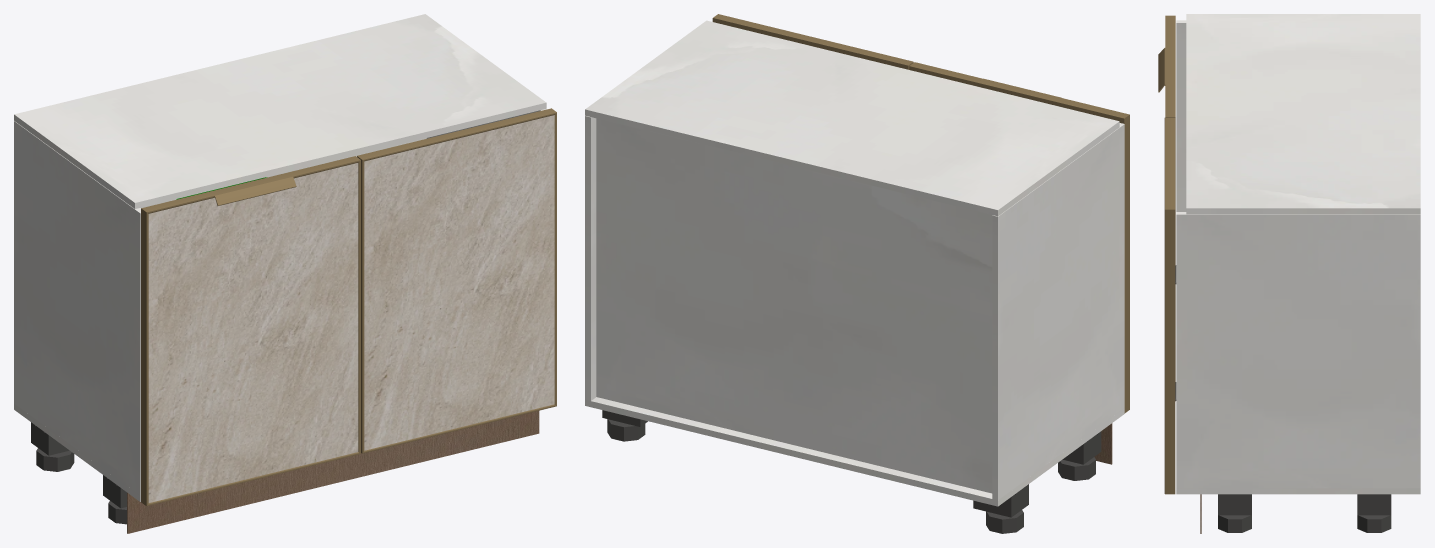
The model's file is BB-AC-TTS-ST-LMC-RHS-XXX-1050-720-560-15.glb.
3 renders of one model, left to right at view 1: azimuth 30°, elevation 25°; view 2: azimuth 150°, elevation 25°; view 3: azimuth 270°, elevation 25°, orthographic. The views are drawn at different scales.
Visible parts, largest first — view 1: Object_node_18, Object_node_20, TP_node_1, TP_node, Object_node_22, Extrusion_node_4, Extrusion_node_5, ExtrSplGeo, Extrusion_node_8, Extrusion_node, Extrusion_node_2, Extrusion_node_6 (+3 smaller); view 2: TP_node_2, TP_node_1, TP_node, TP, TP_node_0, Extrusion_node_5, Extrusion_node_4, Extrusion_node, ExtrSplGeo, Plate, Foot, Foot_node_0 (+1 smaller); view 3: TP_node_0, TP_node_1, Extrusion_node_6, TP_node, TP, Extrusion_node_5, Plate_node, Plate_node_1, Extrusion_node, ExtrSplGeo, Foot_node, Foot_node_1.
Boxes of the visible parts, box(x1,y1,x2,y2) form: Object_node_18: box(148, 163, 358, 502); Object_node_20: box(364, 115, 554, 450); TP_node_1: box(14, 14, 546, 208); TP_node: box(14, 121, 140, 495); Object_node_22: box(127, 411, 539, 533); Extrusion_node_4: box(141, 208, 148, 505); Extrusion_node_5: box(357, 108, 556, 161); ExtrSplGeo: box(209, 172, 296, 205); Extrusion_node_8: box(357, 156, 364, 453); Extrusion_node: box(141, 156, 360, 213); Extrusion_node_2: box(358, 160, 360, 453); Extrusion_node_6: box(554, 113, 556, 405); TP_node_2: box(596, 118, 992, 493); TP_node_1: box(585, 20, 1119, 216); TP_node: box(992, 123, 1124, 500); TP: box(585, 397, 1124, 506); TP_node_0: box(585, 116, 596, 400); Extrusion_node_5: box(713, 14, 913, 68); Extrusion_node_4: box(1119, 115, 1129, 413); Extrusion_node: box(909, 62, 1129, 121); ExtrSplGeo: box(977, 78, 1061, 105); Plate: box(973, 484, 1028, 517); Foot: box(986, 510, 1023, 533); Foot_node_0: box(1058, 457, 1095, 480); TP_node_0: box(1176, 212, 1420, 488); TP_node_1: box(1186, 14, 1420, 214); Extrusion_node_6: box(1164, 209, 1175, 494); TP_node: box(1176, 20, 1186, 211); TP: box(1176, 488, 1420, 494); Extrusion_node_5: box(1164, 117, 1175, 209); Plate_node: box(1357, 494, 1391, 515); Plate_node_1: box(1218, 494, 1251, 515); Extrusion_node: box(1165, 15, 1175, 116); ExtrSplGeo: box(1158, 47, 1175, 92); Foot_node: box(1357, 515, 1391, 532); Foot_node_1: box(1218, 515, 1251, 532).
Size of what is drawn, in the model's own units: 1.05 by 0.82 by 0.5992.
16 materials, 3 textured.
